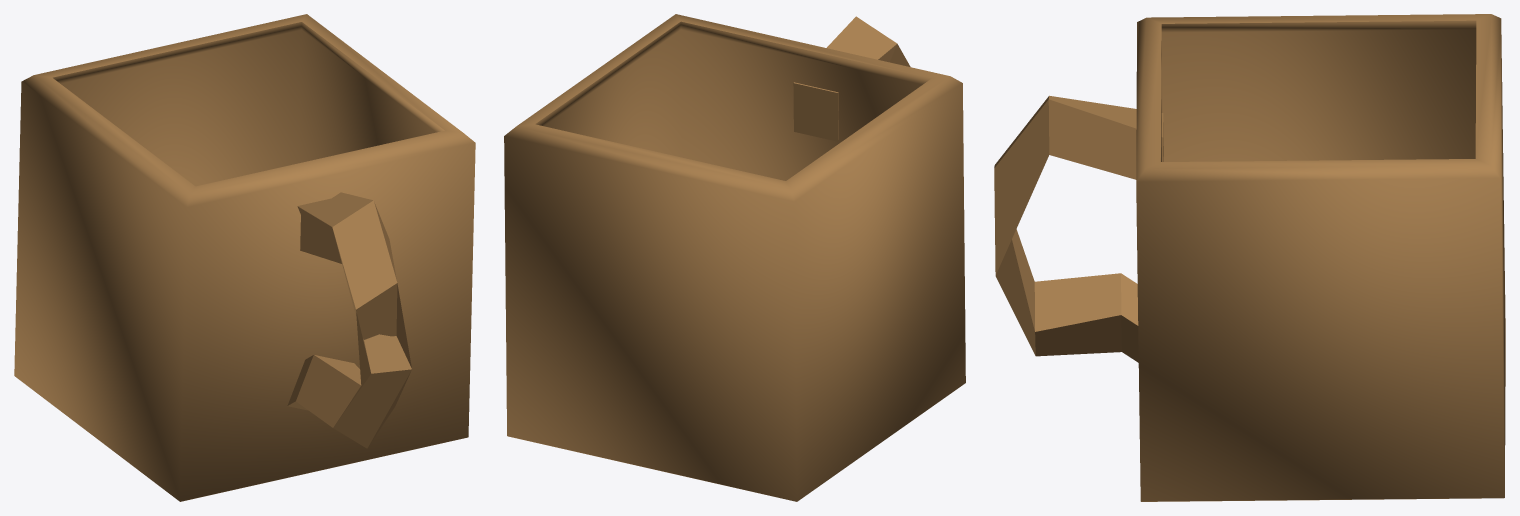
The model's file is mug.glb.
3 renders of one model, left to right at view 1: azimuth 30°, elevation 25°; view 2: azimuth 150°, elevation 25°; view 3: azimuth 270°, elevation 25°, orthographic. The views are drawn at different scales.
Visible parts, largest first — view 1: Cube.001; view 2: Cube.001; view 3: Cube.001.
Boxes of the visible parts, x1=… form: Cube.001: x1=14, y1=14, x2=475, y2=501; Cube.001: x1=504, y1=14, x2=965, y2=501; Cube.001: x1=994, y1=14, x2=1505, y2=501.
Size of the model in its own units: 4.11 by 4.17 by 5.66.
